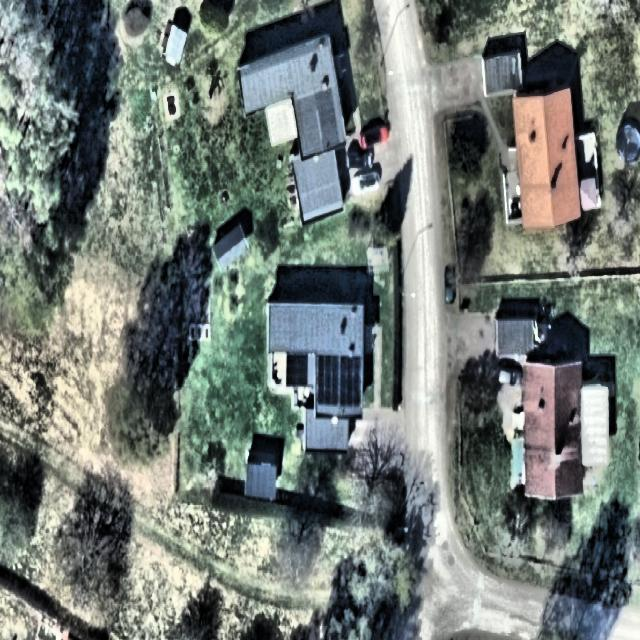roof_pv: (337, 356, 362, 408), (316, 356, 338, 406), (285, 352, 310, 389)
